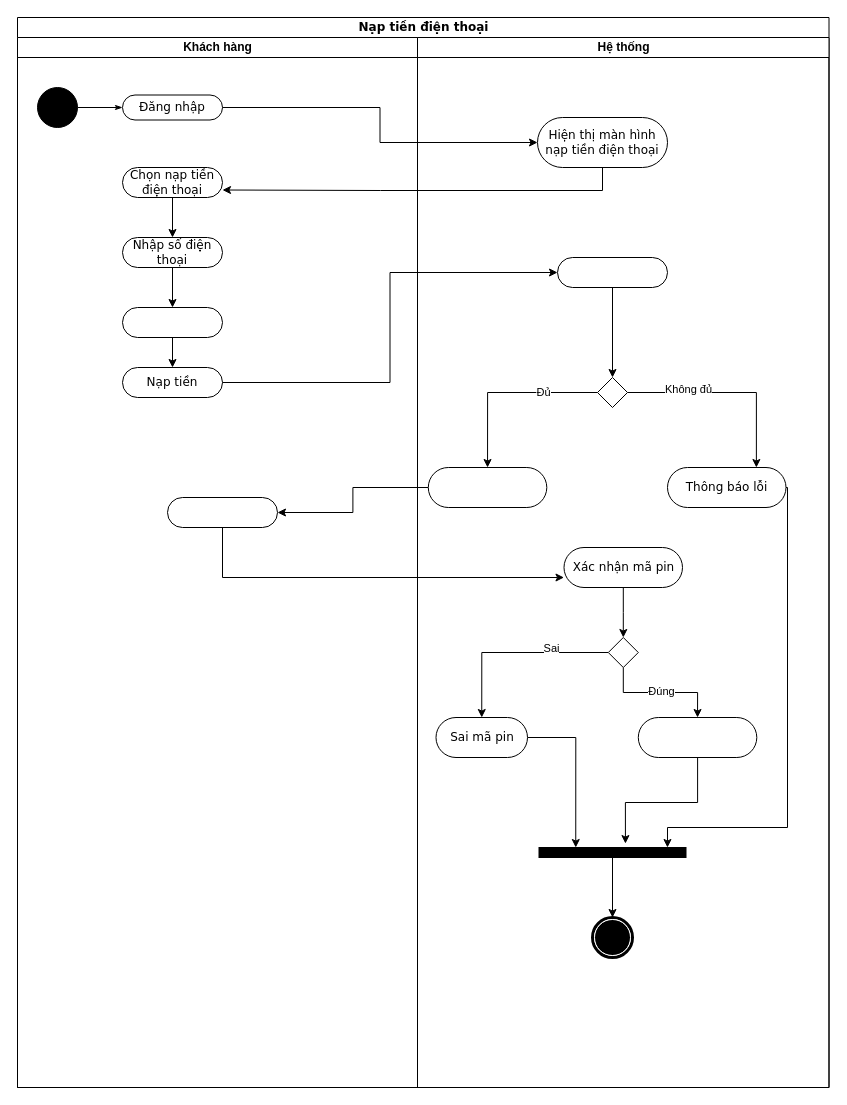
Image size: 847x1105. Some labels were removed from this diagram. Here are the shapes that lost their labels. From the top down, the centre of each, then its label:
(612,272): Kiểm tra số dư
(172,322): Chọn số tiền
(487,487): Yêu cầu xác nhận mã pin
(222,512): Nhập mã pin
(697,737): Thành công
